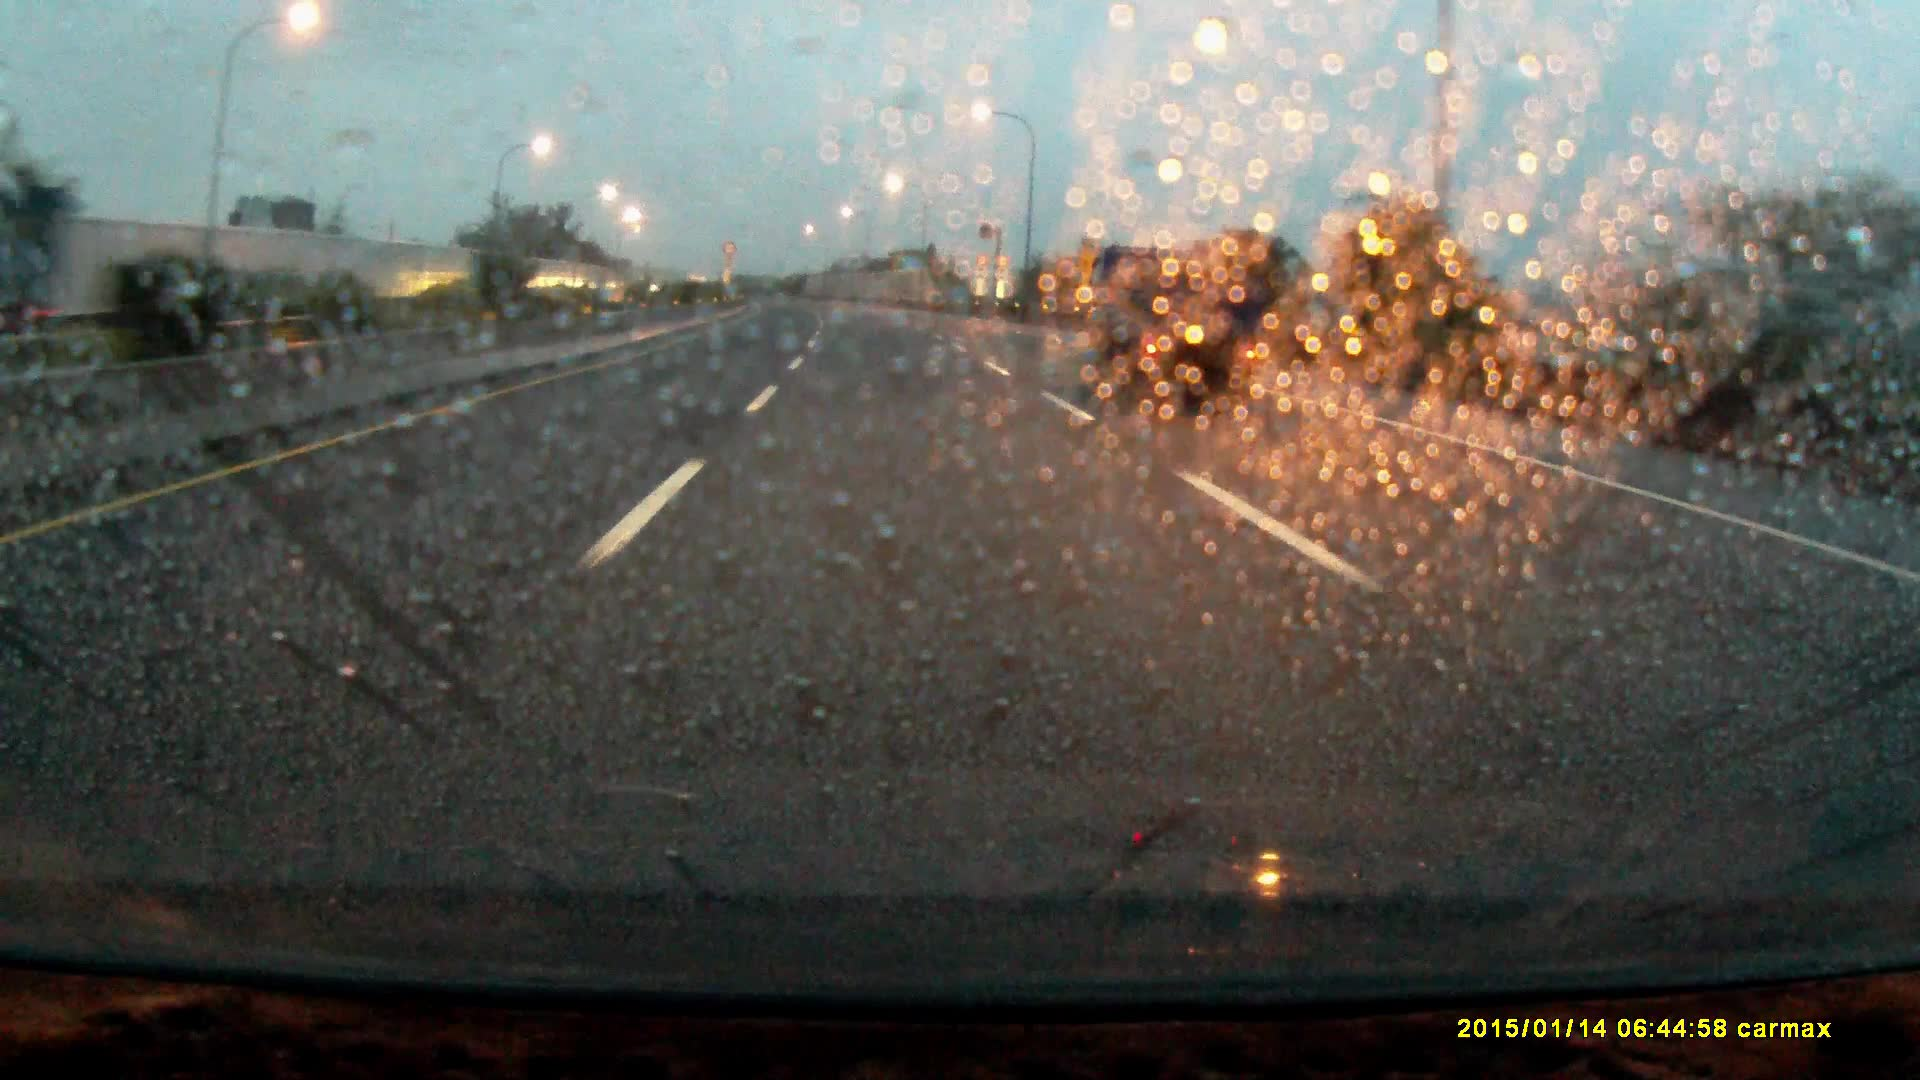vehicle: (1077, 247, 1258, 410)
